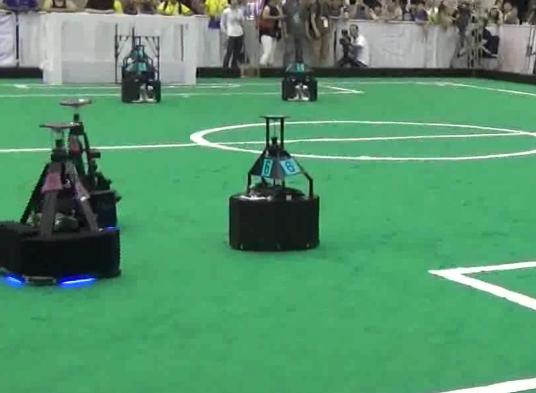robot: (2, 94, 126, 286), (223, 108, 329, 254), (115, 37, 165, 104), (276, 39, 323, 103)
